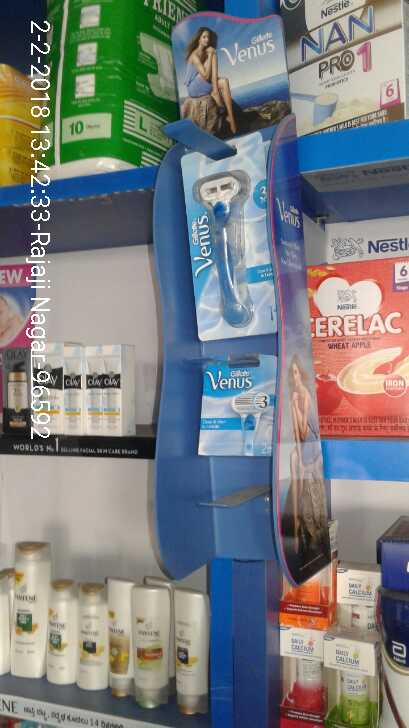beauty: (176, 134, 282, 338), (198, 360, 277, 457), (7, 540, 49, 681), (131, 588, 172, 706), (174, 595, 207, 710), (75, 586, 106, 688), (108, 582, 133, 699), (48, 584, 76, 688), (101, 346, 132, 437), (33, 346, 64, 434), (1, 352, 31, 430), (81, 347, 102, 431), (62, 345, 81, 430)
